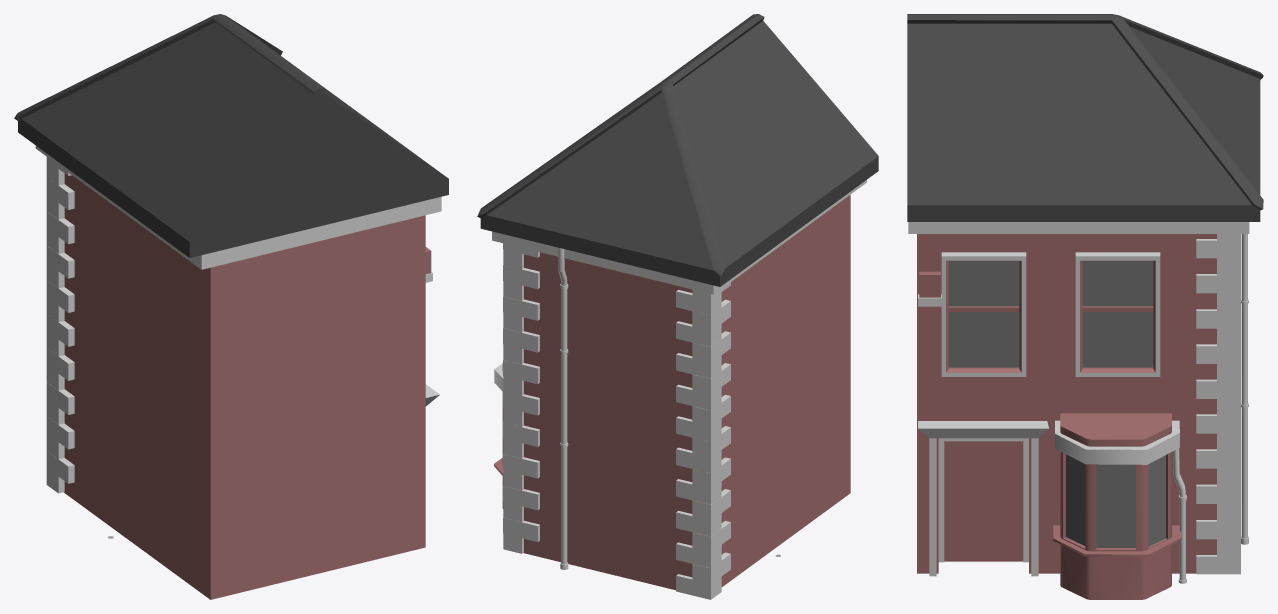
Rendered from HOWOUSE.fbx.
3 views of the same model, side by side, from view 1: azimuth 30°, elevation 25°; view 2: azimuth 150°, elevation 25°; view 3: azimuth 270°, elevation 25° (orthographic). The views are drawn at different scales.
Parts seen in each view (by area): view 1: pCube94; view 2: pCube94; view 3: pCube94.
Boxes of the visible parts, x1,y1,x2,y2 form: pCube94: [14, 14, 448, 599]; pCube94: [477, 14, 878, 599]; pCube94: [907, 14, 1263, 599].
Bounding box in the file's own units: 56.2 × 87.51 × 55.85.
